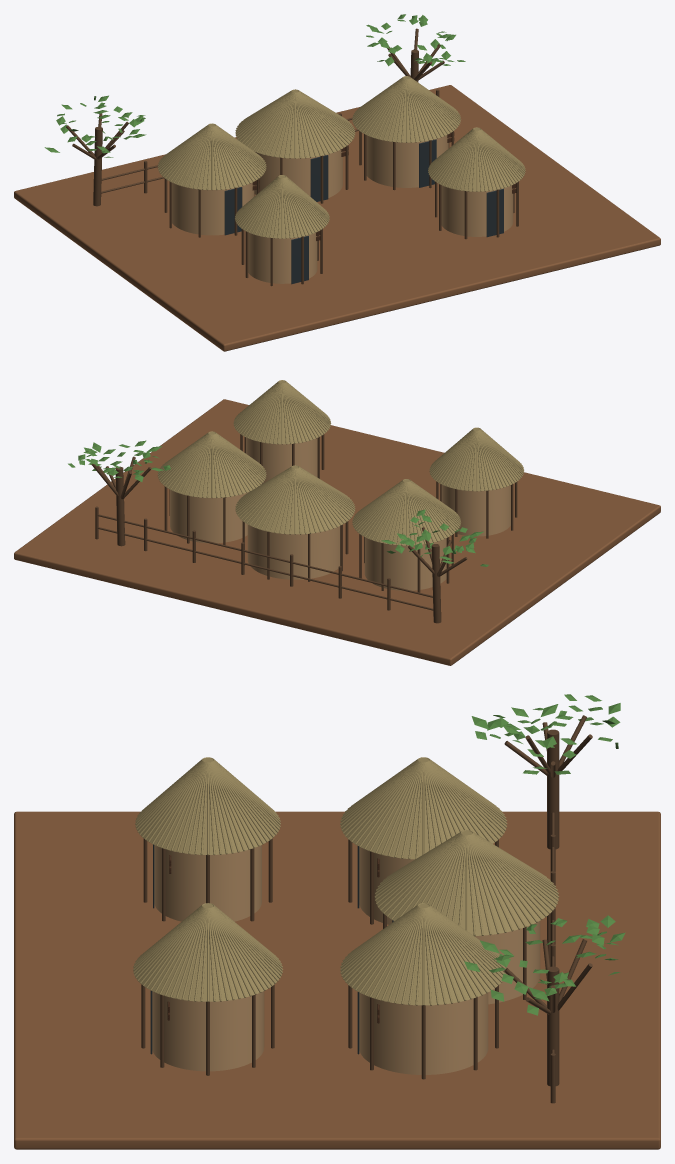
Rendered from rural-village.glb.
3 renders of one model, top to bottom at view 1: azimuth 30°, elevation 25°; view 2: azimuth 150°, elevation 25°; view 3: azimuth 270°, elevation 25°, orthographic. The views are drawn at different scales.
Parts seen in each view (by area): view 1: Earth plot, Conical thatch roof.001, Conical thatch roof.002, Conical thatch roof, Round earthen wall.002, Round earthen wall, Round earthen wall.004, Round earthen wall.003, Conical thatch roof.004, Round earthen wall.001, Conical thatch roof.003, Dark doorway.001 (+5 smaller); view 2: Earth plot, Round earthen wall.001, Conical thatch roof.001, Round earthen wall.002, Round earthen wall, Round earthen wall.003, Conical thatch roof.002, Conical thatch roof, Conical thatch roof.004, Conical thatch roof.003, Round earthen wall.004, Fence rail (+3 smaller); view 3: Earth plot, Round earthen wall.002, Round earthen wall.004, Round earthen wall.003, Conical thatch roof.001, Conical thatch roof.002, Conical thatch roof, Conical thatch roof.004, Conical thatch roof.003, Round earthen wall.001, Round earthen wall, Trunk (+1 smaller).
Boxes of the visible parts, <box> form: Earth plot: <box>14,85,660,351</box>; Conical thatch roof.001: <box>236,90,354,158</box>; Conical thatch roof.002: <box>352,76,460,142</box>; Conical thatch roof: <box>158,124,265,189</box>; Round earthen wall.002: <box>366,135,448,187</box>; Round earthen wall: <box>172,182,254,235</box>; Round earthen wall.004: <box>441,185,513,236</box>; Round earthen wall.003: <box>248,232,317,283</box>; Conical thatch roof.004: <box>429,128,524,191</box>; Round earthen wall.001: <box>254,149,342,197</box>; Conical thatch roof.003: <box>236,175,328,238</box>; Dark doorway.001: <box>310,155,328,201</box>; Earth plot: <box>14,399,660,665</box>; Round earthen wall.001: <box>247,524,340,579</box>; Conical thatch roof.001: <box>236,466,354,534</box>; Round earthen wall.002: <box>170,490,248,543</box>; Round earthen wall: <box>364,537,446,590</box>; Round earthen wall.003: <box>441,485,510,536</box>; Conical thatch roof.002: <box>158,432,265,497</box>; Conical thatch roof: <box>353,479,460,545</box>; Conical thatch roof.004: <box>234,380,329,444</box>; Conical thatch roof.003: <box>430,428,523,491</box>; Round earthen wall.004: <box>246,437,317,483</box>; Fence rail: <box>97,527,433,610</box>; Earth plot: <box>14,811,660,1149</box>; Round earthen wall.002: <box>359,992,488,1074</box>; Round earthen wall.004: <box>152,991,264,1071</box>; Round earthen wall.003: <box>154,845,261,921</box>; Conical thatch roof.001: <box>375,831,558,935</box>; Conical thatch roof.002: <box>341,903,505,1005</box>; Conical thatch roof: <box>341,758,506,859</box>; Conical thatch roof.004: <box>134,903,281,1001</box>; Conical thatch roof.003: <box>136,758,279,854</box>; Round earthen wall.001: <box>393,921,540,1004</box>; Round earthen wall: <box>359,847,414,924</box>; Trunk: <box>547,729,559,849</box>.
Size of the model in its own units: 18.1 by 4.12 by 15.
Materials: 7 (1 with a texture image).
